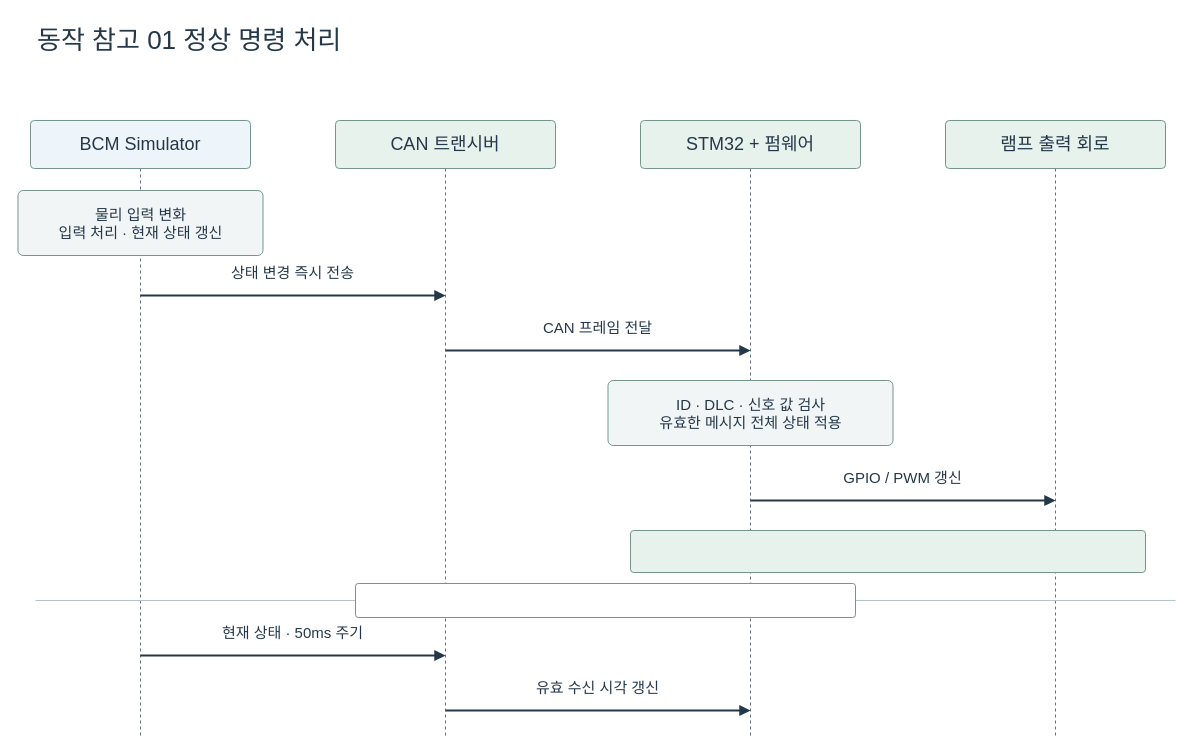
Some shapes in this 1194 by 754 pixel diagram are drawn without their labels. The box of each missing label's shape, as (x1, y1, x2, y2) in pixels:
유효 수신 → 최초 출력 변경 ≤10ms: (630, 530, 1146, 572)
평상시에도 현재 상태를 주기적으로 전달: (354, 582, 856, 618)
